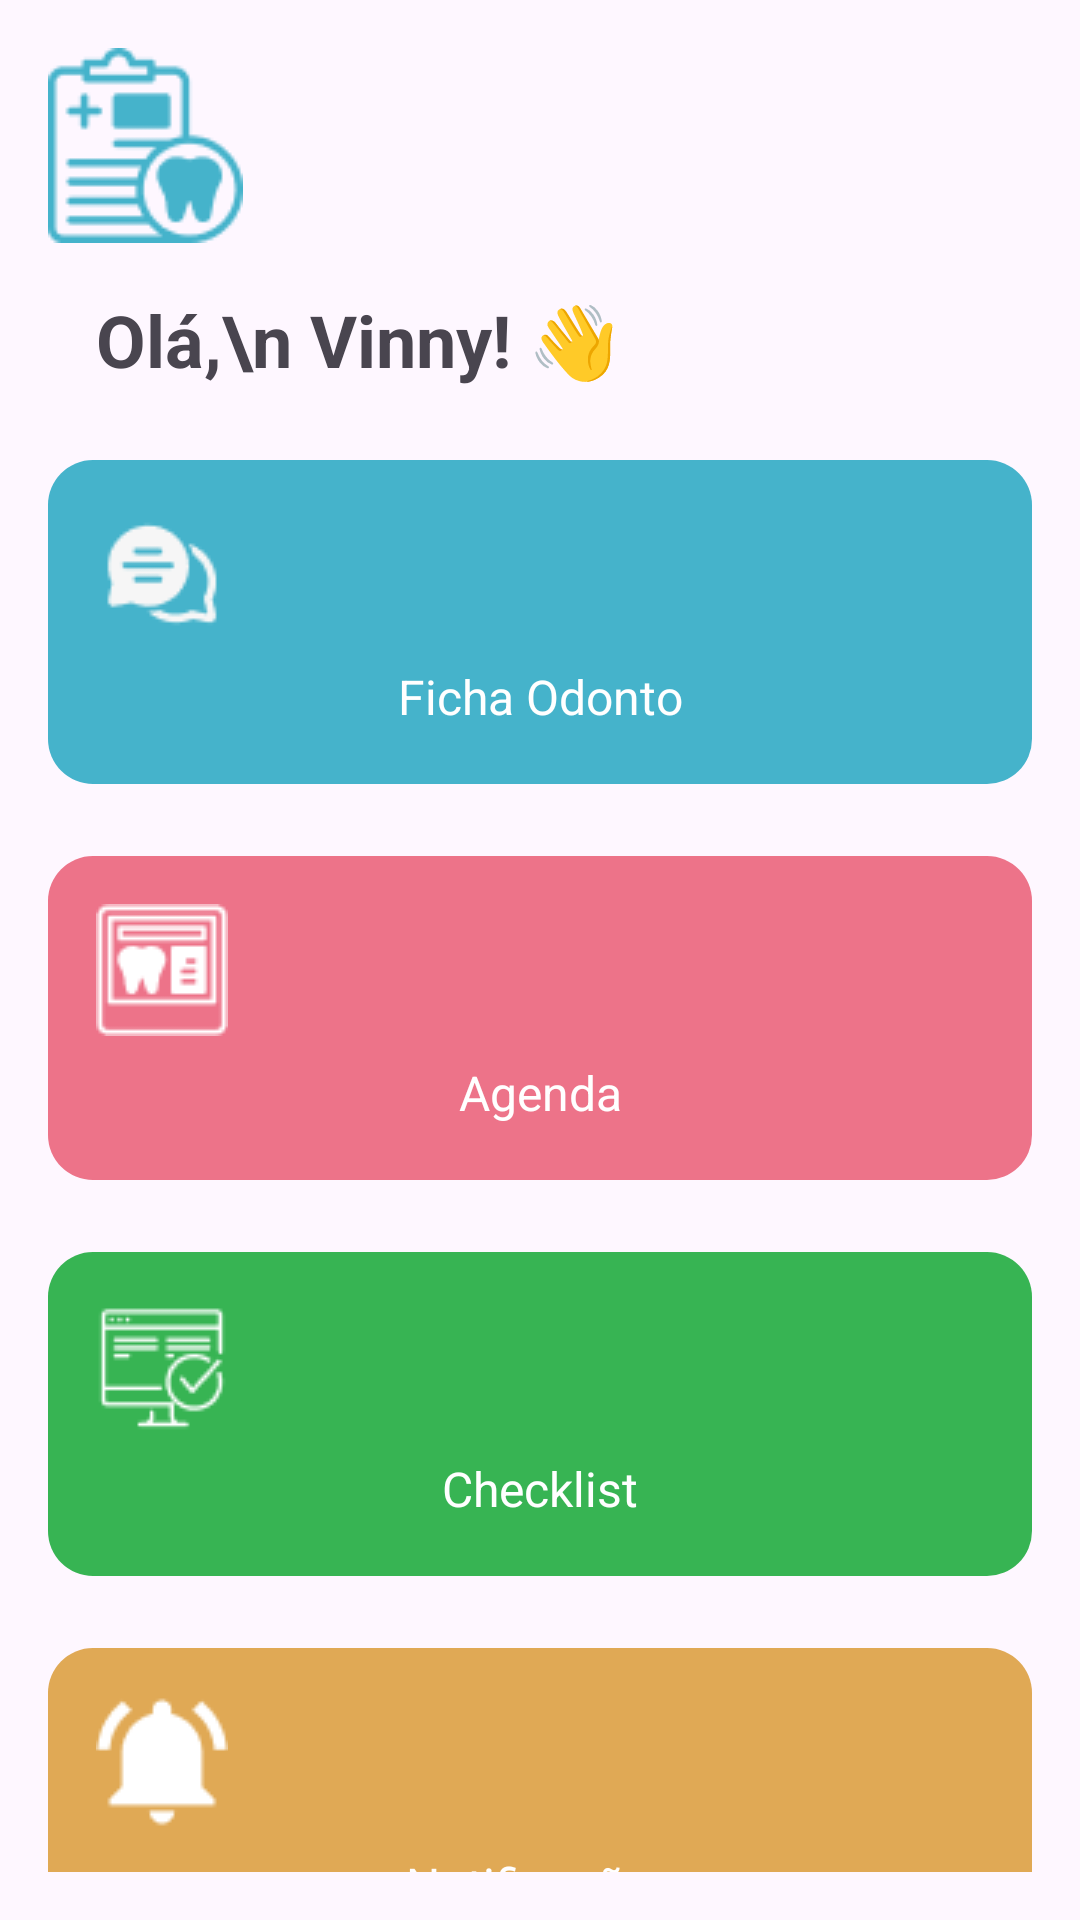

Where icons sit on this 1080×1920 app screen, as [x1, y1, x2, y2]:
checklisticon: [100, 1308, 224, 1428]
clipboardicon: [48, 48, 243, 243]
notificacoesicon: [96, 1698, 228, 1826]
